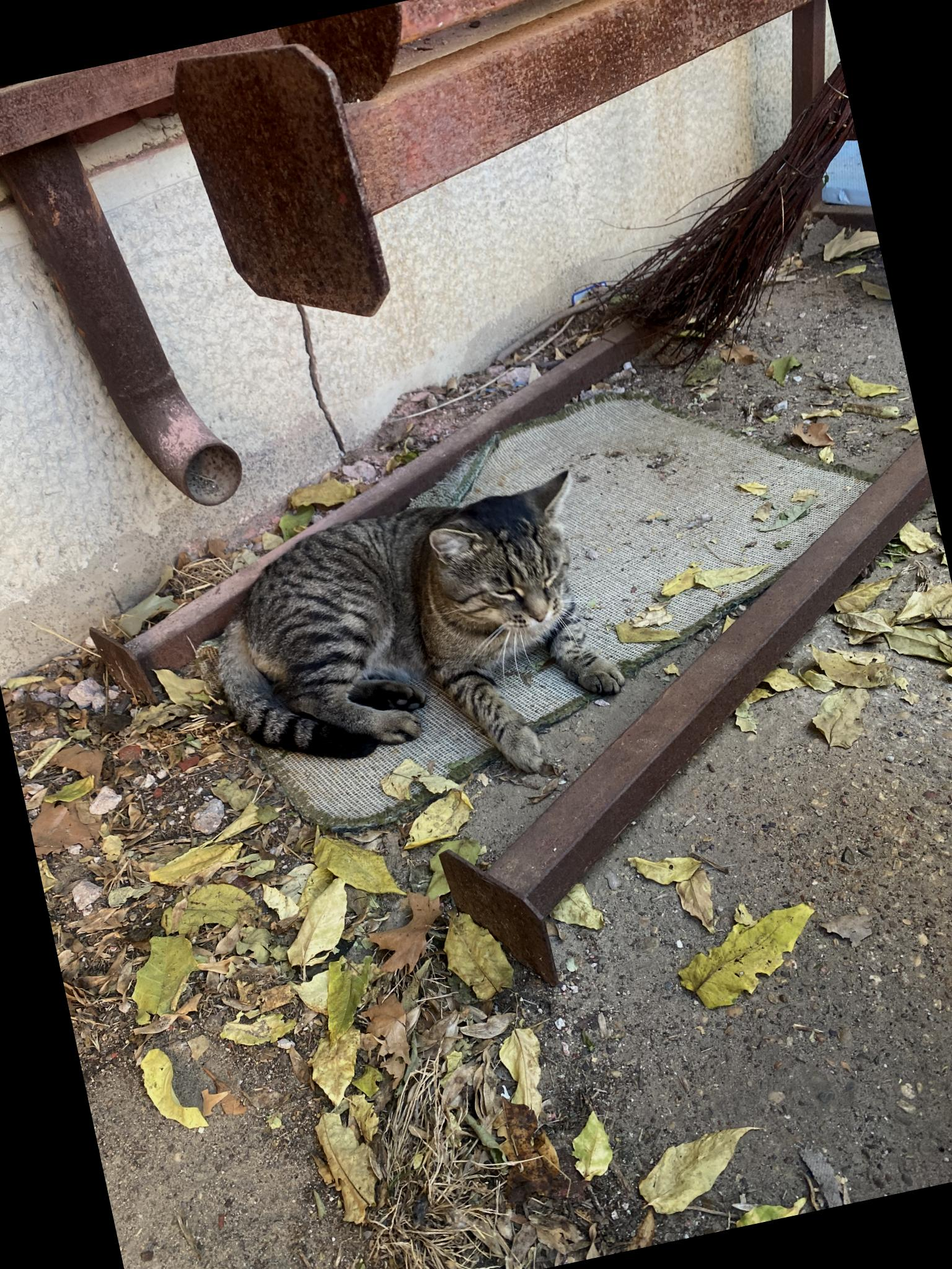macka: (193, 471, 638, 832)
